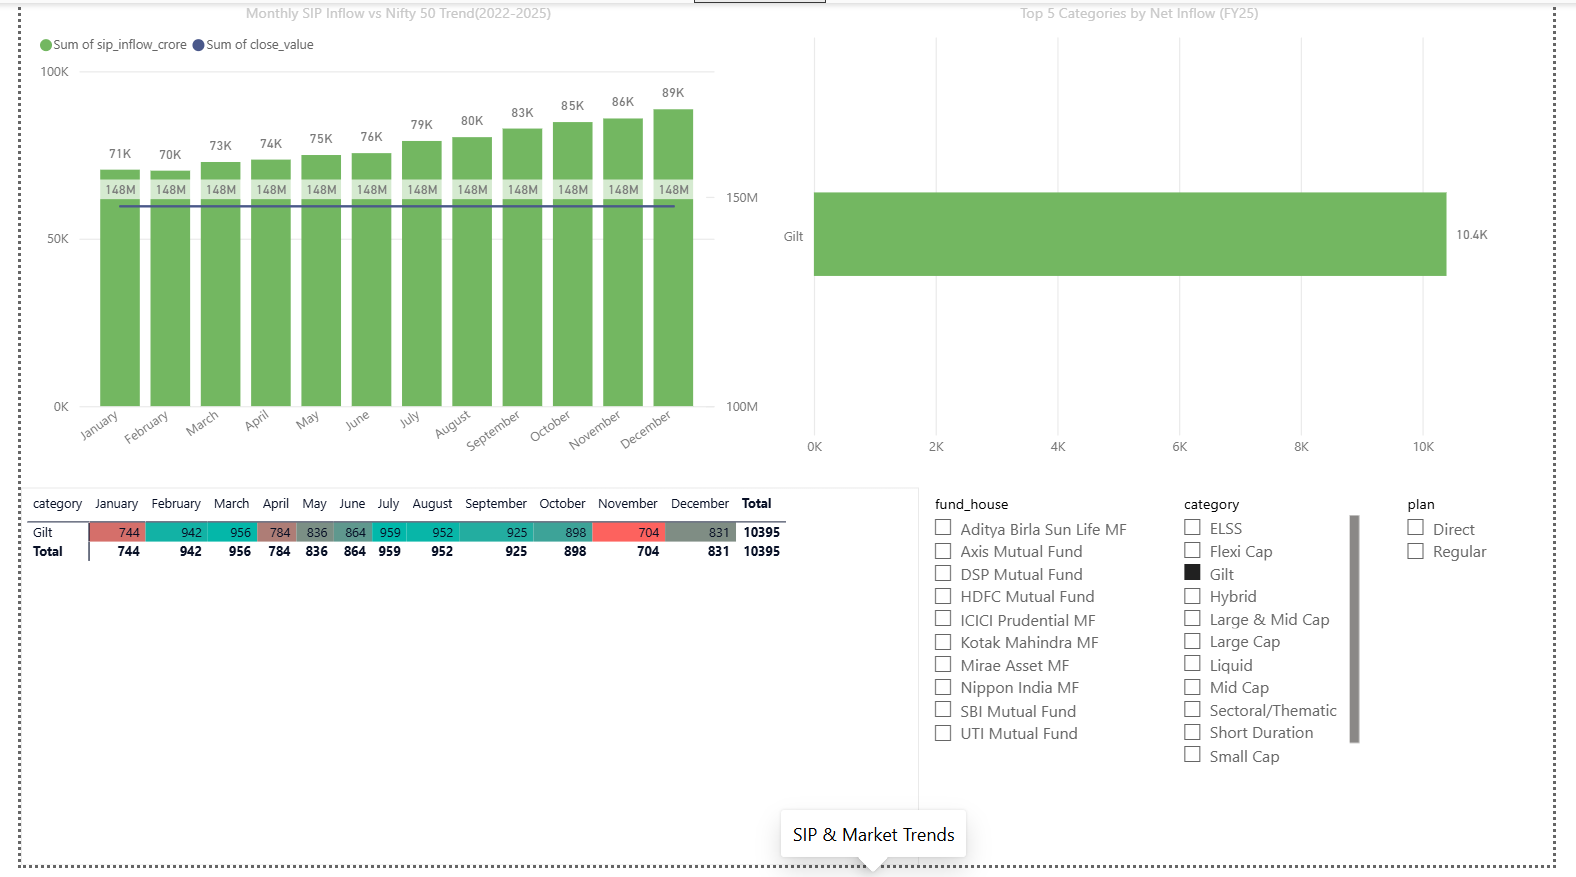

This screenshot's page, from the dashboard's own definition file:
{"tool":"powerbi","page":{"name":"SIP & Market Trends","canvas":[1280,720],"ordinal":3},"visuals":[{"type":"lineClusteredColumnComboChart","title":"Monthly SIP Inflow vs Nifty 50 Trend(2022-2025)","fields":{"Y2":["Sum(10_benchmark_indices.close_value)"],"Category":["04_monthly_sip_inflows.month.Variation.Date Hierarchy.Month"],"Y":["Sum(04_monthly_sip_inflows.sip_inflow_crore)"]},"box":[9.4,0,610.4,387.4],"z":0},{"type":"pivotTable","fields":{"Rows":["05_category_inflows.category"],"Columns":["05_category_inflows.month.Variation.Date Hierarchy.Month"],"Values":["Sum(05_category_inflows.net_inflow_crore)"]},"box":[0,404.4,750.2,315.6],"z":1000},{"type":"clusteredBarChart","title":"Top 5 Categories by Net Inflow (FY25)","fields":{"Category":["05_category_inflows.category"],"Y":["Sum(05_category_inflows.net_inflow_crore)"]},"box":[629.3,0,610.4,387.4],"z":2000},{"type":"slicer","fields":{"Values":["03_aum_by_fund_house.fund_house"]},"box":[750.2,404.4,185.2,236.2],"z":3000},{"type":"slicer","fields":{"Values":["05_category_inflows.category"]},"box":[958.1,404.4,164.4,236.2],"z":4000},{"type":"slicer","fields":{"Values":["01_fund_master.plan"]},"box":[1145.2,404.4,96.4,71.8],"z":5000}]}

Visuals, with their boxes in screenshot pixels (x1, y1, x2, y2), scaled from the page's 1280x720 canvas onto the 1576x877 screenshot:
"Monthly SIP Inflow vs Nifty 50 Trend(2022-2025)" lineClusteredColumnComboChart: [12, 0, 763, 472]
pivotTable - 05_category_inflows.category x 05_category_inflows.month.Variation.Date Hierarchy.Month: [0, 493, 924, 876]
"Top 5 Categories by Net Inflow (FY25)" clusteredBarChart: [775, 0, 1526, 472]
slicer - 03_aum_by_fund_house.fund_house: [924, 493, 1152, 780]
slicer - 05_category_inflows.category: [1180, 493, 1382, 780]
slicer - 01_fund_master.plan: [1410, 493, 1529, 580]
